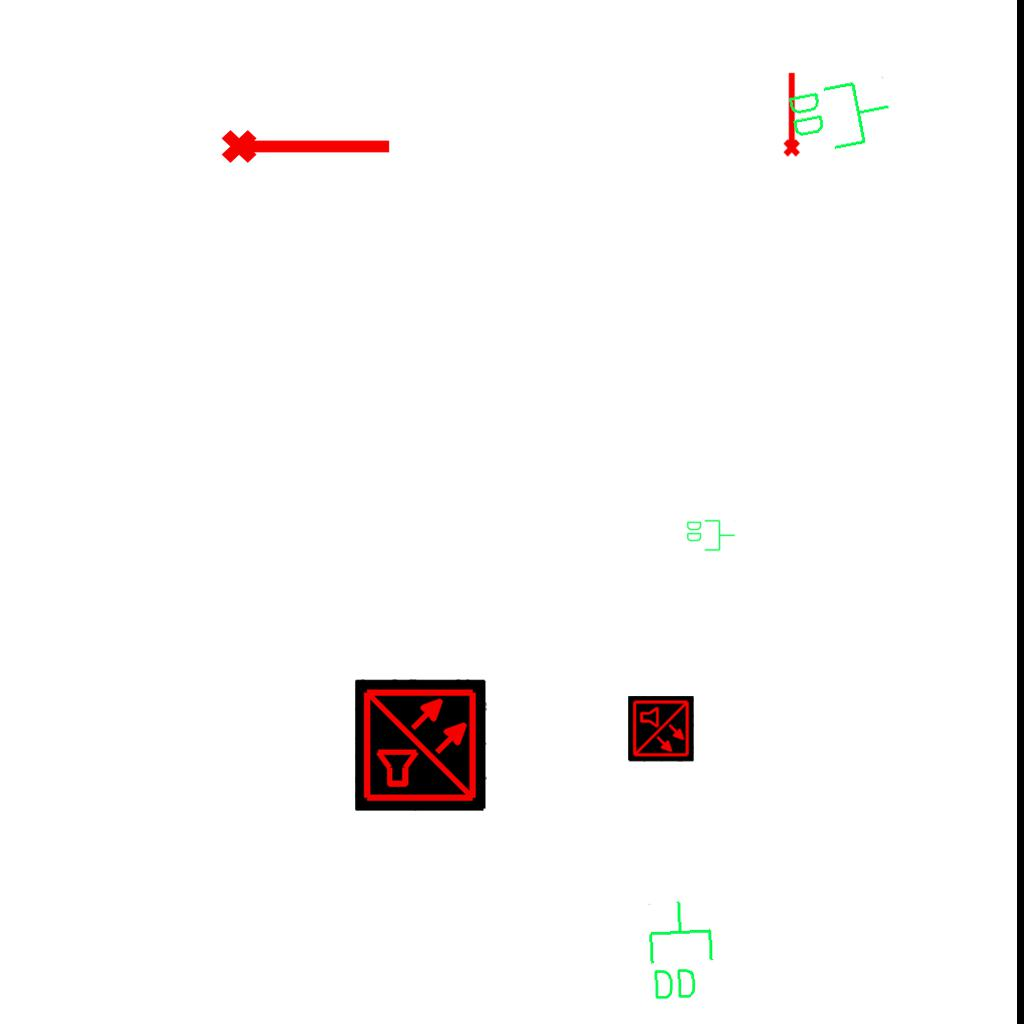ASR_Ansaugoeffnung: (219, 121, 395, 167), (779, 70, 802, 158)
Datenanschluss_zweifach: (783, 71, 898, 160), (643, 897, 718, 1004), (685, 518, 736, 552)
OKW_Multisensormelder_(Kombination_optischer_Rauch-Kahlenmonoxid_Waerme-Melder): (355, 679, 487, 811), (628, 696, 694, 762)
